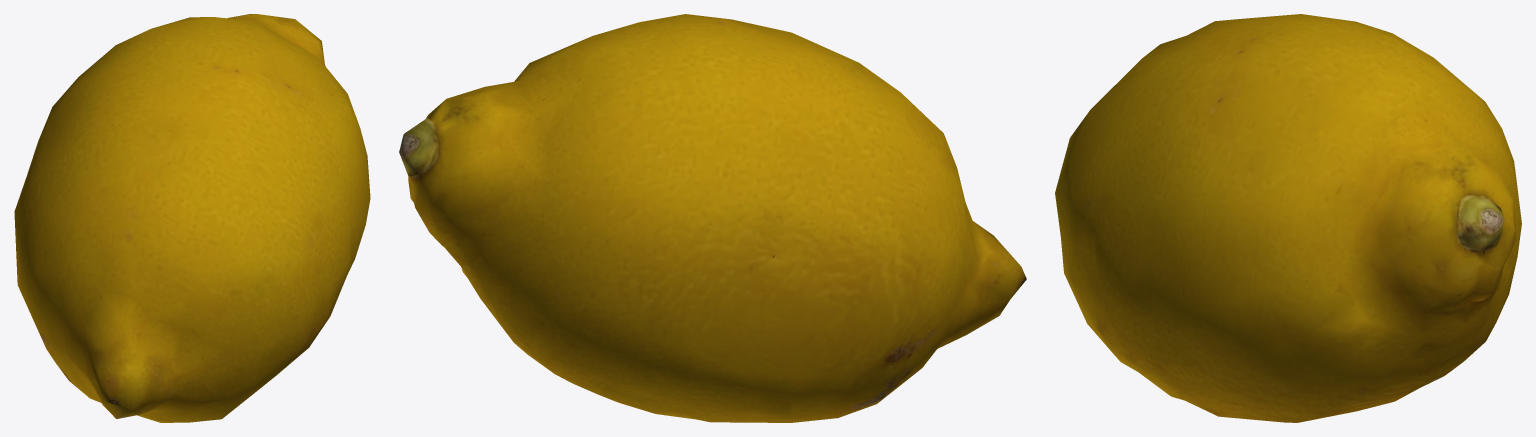
The model's file is lemon-transformed.glb.
3 views of the same model, side by side, from view 1: azimuth 30°, elevation 25°; view 2: azimuth 150°, elevation 25°; view 3: azimuth 270°, elevation 25° (orthographic). The views are drawn at different scales.
Parts seen in each view (by area): view 1: lemon; view 2: lemon; view 3: lemon.
Boxes of the visible parts, x1,y1,x2,y2 form: lemon: (14,14,370,422); lemon: (399,14,1026,422); lemon: (1055,14,1521,422).
Size of the model in its own units: 7.73 by 6.67 by 7.26.
1 material, 1 textured.
